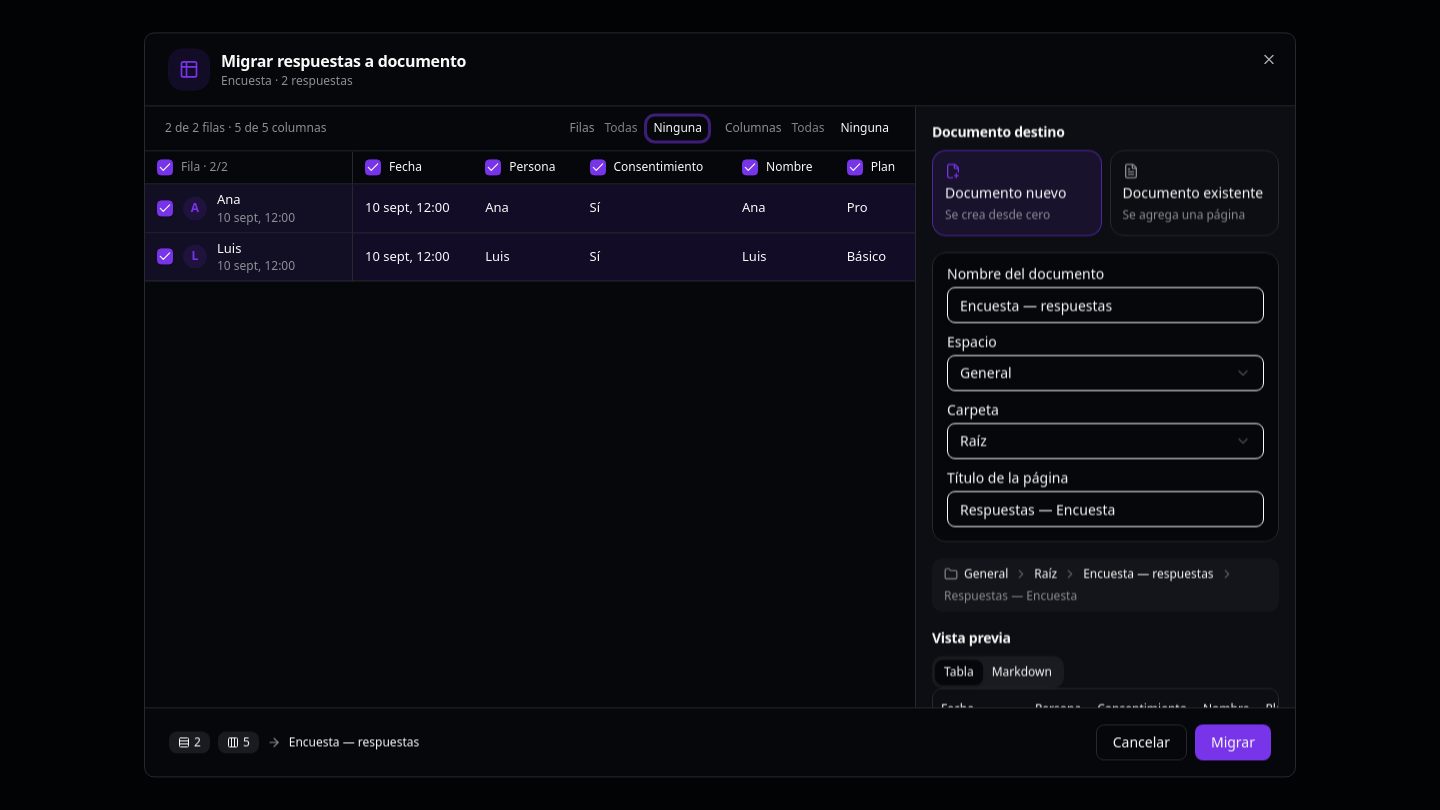
Test: MigrarRespuestasDialog › desmarcar todas las filas deshabilita la migración
This screenshot has width=1440, height=810.
Expected: the button "Migrar" is enabled, top-left (1195, 725), bottom-right (1271, 761)
Step 1. Click the checkbox named "Seleccionar todas las filas" → point(165, 167), box top-left (157, 159), bottom-right (173, 175)
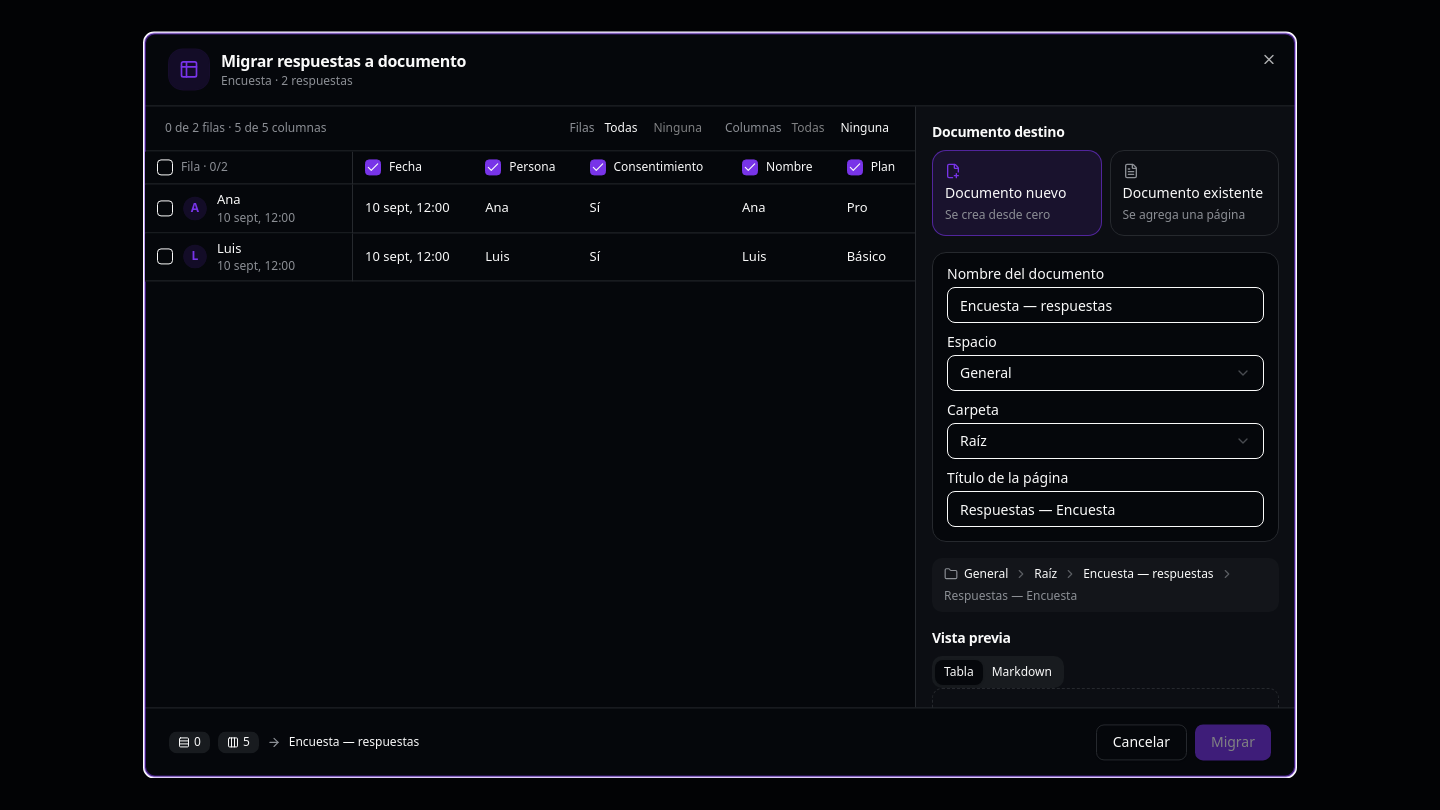
Now the button "Migrar" is disabled, box top-left (1195, 725), bottom-right (1271, 761)
